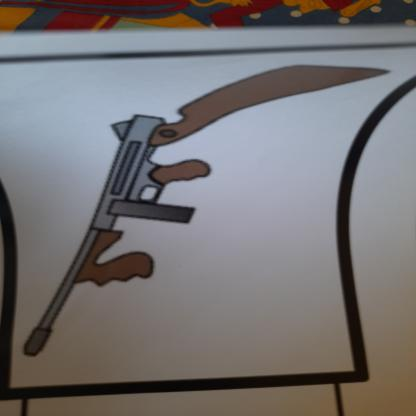Bootlegger: (24, 53, 397, 361)
